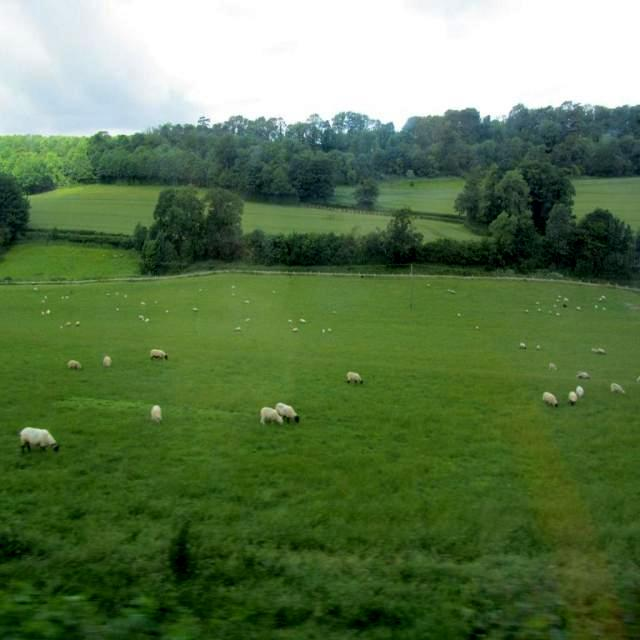sheep: (20, 429, 58, 452)
